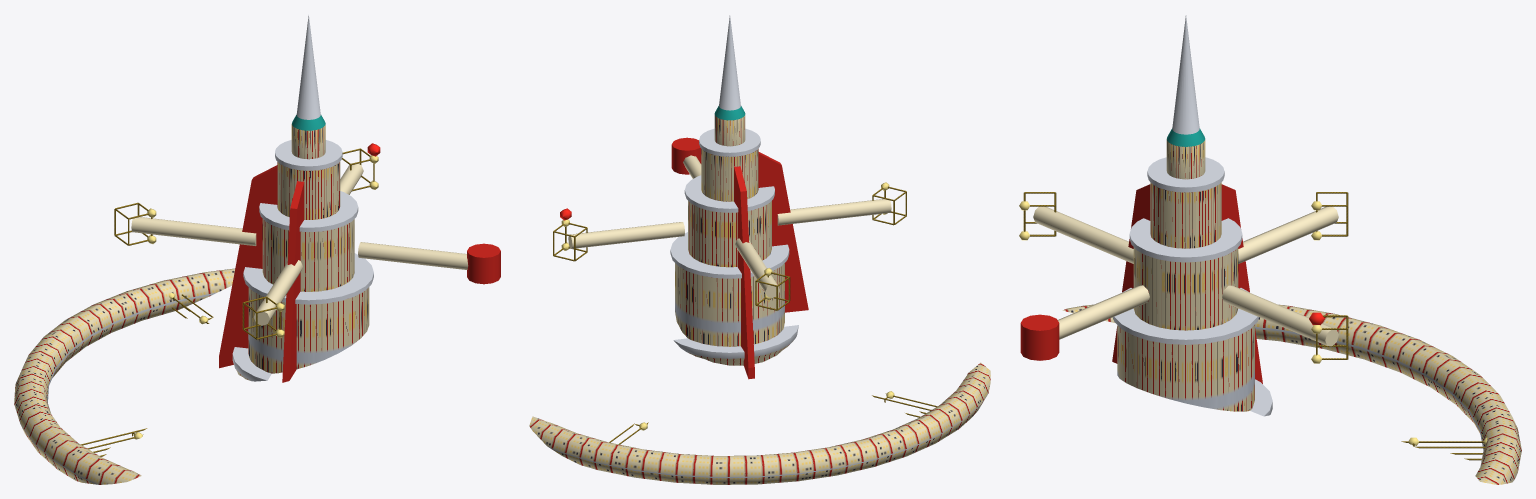
File: guard_station_build2_debris1.obj
3 views of the same model, side by side, from view 1: azimuth 30°, elevation 25°; view 2: azimuth 150°, elevation 25°; view 3: azimuth 270°, elevation 25° (orthographic). The views are drawn at different scales.
Visible parts, largest first — view 1: tower, ring, arm, buttress315, buttress225, cradle, post, girder, work_light; view 2: tower, ring, arm, buttress225, buttress315, girder, post, cradle; view 3: tower, ring, arm, cradle, buttress315, buttress225, girder, post, work_light.
Boxes of the visible parts, x1=… form: tower: x1=232, y1=15, x2=373, y2=381; ring: x1=14, y1=268, x2=235, y2=484; arm: x1=131, y1=162, x2=468, y2=325; buttress315: x1=219, y1=165, x2=277, y2=368; buttress225: x1=282, y1=181, x2=304, y2=382; cradle: x1=467, y1=243, x2=500, y2=284; post: x1=81, y1=150, x2=374, y2=456; girder: x1=114, y1=148, x2=370, y2=436; work_light: x1=134, y1=155, x2=378, y2=439; tower: x1=670, y1=15, x2=798, y2=365; ring: x1=529, y1=362, x2=990, y2=484; arm: x1=568, y1=155, x2=891, y2=297; buttress225: x1=758, y1=152, x2=808, y2=312; buttress315: x1=734, y1=166, x2=754, y2=379; girder: x1=553, y1=186, x2=906, y2=425; post: x1=553, y1=190, x2=937, y2=444; cradle: x1=671, y1=137, x2=701, y2=174; tower: x1=1113, y1=15, x2=1272, y2=416; ring: x1=1062, y1=304, x2=1521, y2=484; arm: x1=1033, y1=206, x2=1338, y2=346; cradle: x1=1020, y1=314, x2=1059, y2=360; buttress315: x1=1221, y1=184, x2=1262, y2=383; buttress225: x1=1112, y1=184, x2=1150, y2=363; girder: x1=1023, y1=192, x2=1414, y2=446; post: x1=1023, y1=205, x2=1485, y2=460; work_light: x1=1019, y1=201, x2=1487, y2=445.
Size of the model in its own units: 183 by 182 by 183.
9 materials, 2 textured.
